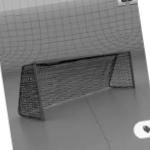goals: (18, 49, 136, 122)
